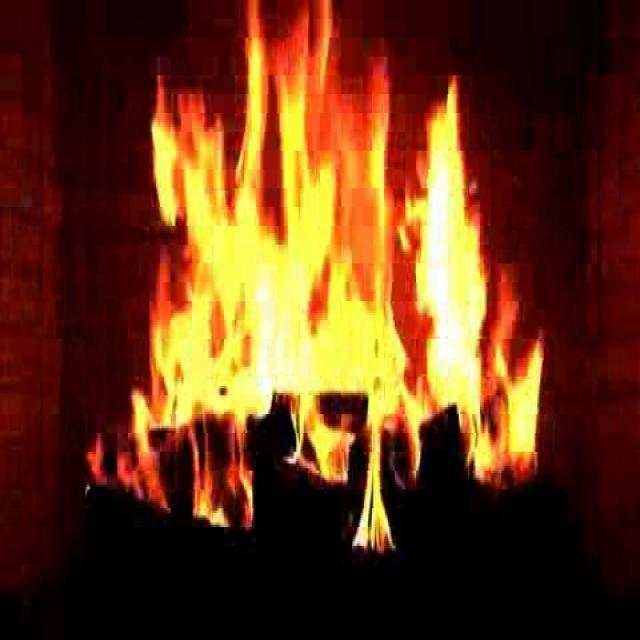Fire: (120, 27, 523, 534)
